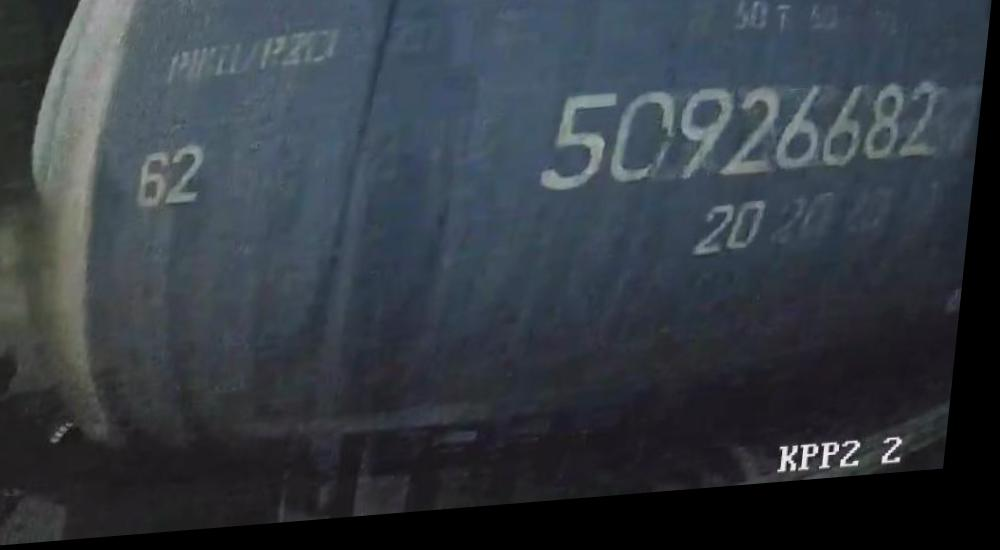Wagon-number: (535, 73, 948, 209)
